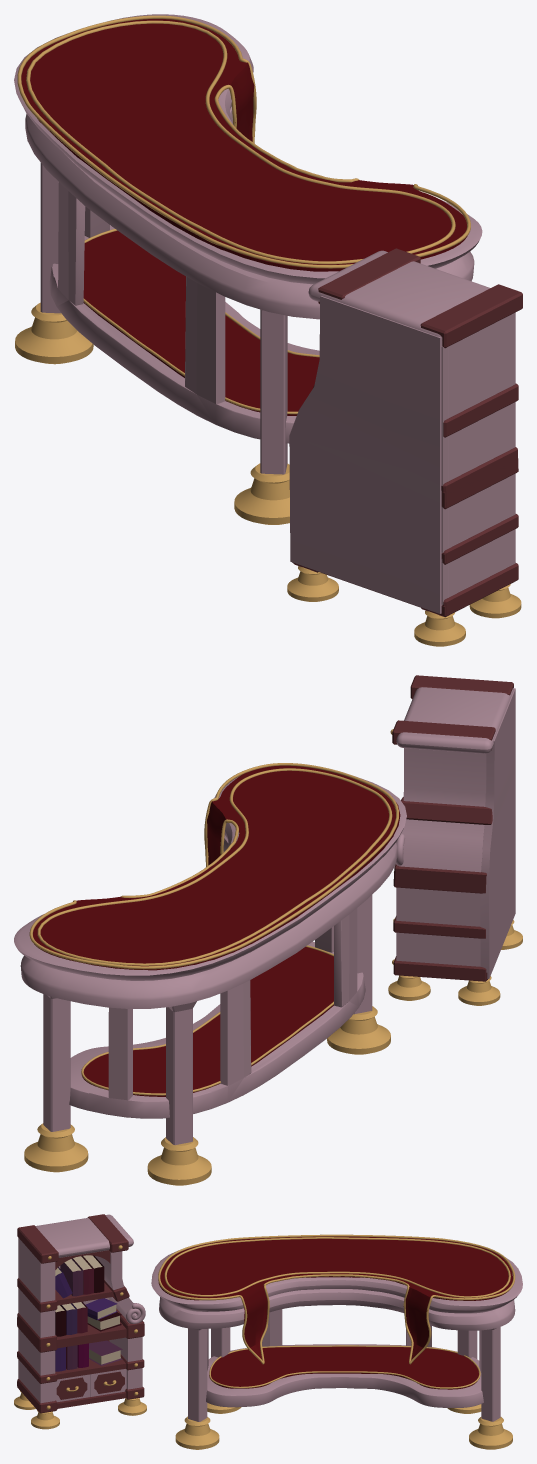
Rendered from table.fbx.
3 renders of one model, top to bottom at view 1: azimuth 30°, elevation 25°; view 2: azimuth 150°, elevation 25°; view 3: azimuth 270°, elevation 25°, orthographic. The views are drawn at different scales.
Parts seen in each view (by area): view 1: BézierCurve.003, Cube.012, BézierCurve.002, BézierCurve.004, BézierCurve.001, Cube.021, Cube.023, BézierCurve, BézierCurve.005, Cube.002, BézierCurve.006, Cube.018 (+14 smaller); view 2: BézierCurve.003, BézierCurve.002, BézierCurve.001, BézierCurve.004, Cube.020, Cube.012, Cube.023, BézierCurve, Cube.005, Cube.003, BézierCurve.005, BézierCurve.006 (+15 smaller); view 3: BézierCurve.003, BézierCurve.004, BézierCurve.002, BézierCurve.001, BézierCurve, BézierCurve.005, Cube.021, Cube.023, Cube.004, Cube.003, BézierCurve.006, BézierCurve.007 (+34 smaller).
Boxes of the visible parts, x1=… form: BézierCurve.003: x1=21, y1=19, x2=467, y2=271; Cube.012: x1=289, y1=296, x2=448, y2=613; BézierCurve.002: x1=49, y1=182, x2=319, y2=443; BézierCurve.004: x1=83, y1=230, x2=319, y2=415; BézierCurve.001: x1=25, y1=106, x2=474, y2=319; Cube.021: x1=441, y1=312, x2=515, y2=485; Cube.023: x1=308, y1=250, x2=490, y2=337; BézierCurve: x1=14, y1=14, x2=482, y2=284; BézierCurve.005: x1=17, y1=15, x2=470, y2=268; Cube.002: x1=260, y1=309, x2=287, y2=474; BézierCurve.006: x1=26, y1=20, x2=455, y2=264; Cube.018: x1=441, y1=473, x2=515, y2=552; BézierCurve.003: x1=33, y1=765, x2=400, y2=970; BézierCurve.002: x1=69, y1=908, x2=365, y2=1118; BézierCurve.001: x1=20, y1=835, x2=397, y2=1008; BézierCurve.004: x1=82, y1=947, x2=333, y2=1096; Cube.020: x1=399, y1=748, x2=486, y2=872; Cube.012: x1=480, y1=688, x2=515, y2=978; Cube.023: x1=396, y1=687, x2=513, y2=753; BézierCurve: x1=14, y1=776, x2=406, y2=980; Cube.005: x1=166, y1=1001, x2=196, y2=1145; Cube.003: x1=43, y1=994, x2=70, y2=1131; BézierCurve.005: x1=29, y1=763, x2=398, y2=969; BézierCurve.006: x1=37, y1=768, x2=392, y2=965; BézierCurve.003: x1=158, y1=1236, x2=512, y2=1360; BézierCurve.004: x1=209, y1=1346, x2=478, y2=1389; BézierCurve.002: x1=206, y1=1309, x2=483, y2=1407; BézierCurve.001: x1=159, y1=1289, x2=515, y2=1330; BézierCurve: x1=151, y1=1251, x2=522, y2=1313; BézierCurve.005: x1=158, y1=1234, x2=515, y2=1364; Cube.021: x1=18, y1=1238, x2=55, y2=1337; Cube.023: x1=35, y1=1214, x2=133, y2=1257; Cube.004: x1=188, y1=1328, x2=207, y2=1421; Cube.003: x1=481, y1=1327, x2=500, y2=1421; BézierCurve.006: x1=164, y1=1237, x2=510, y2=1297; BézierCurve.007: x1=209, y1=1345, x2=480, y2=1388.
Size of the model in its own units: 149 by 174 by 450.
